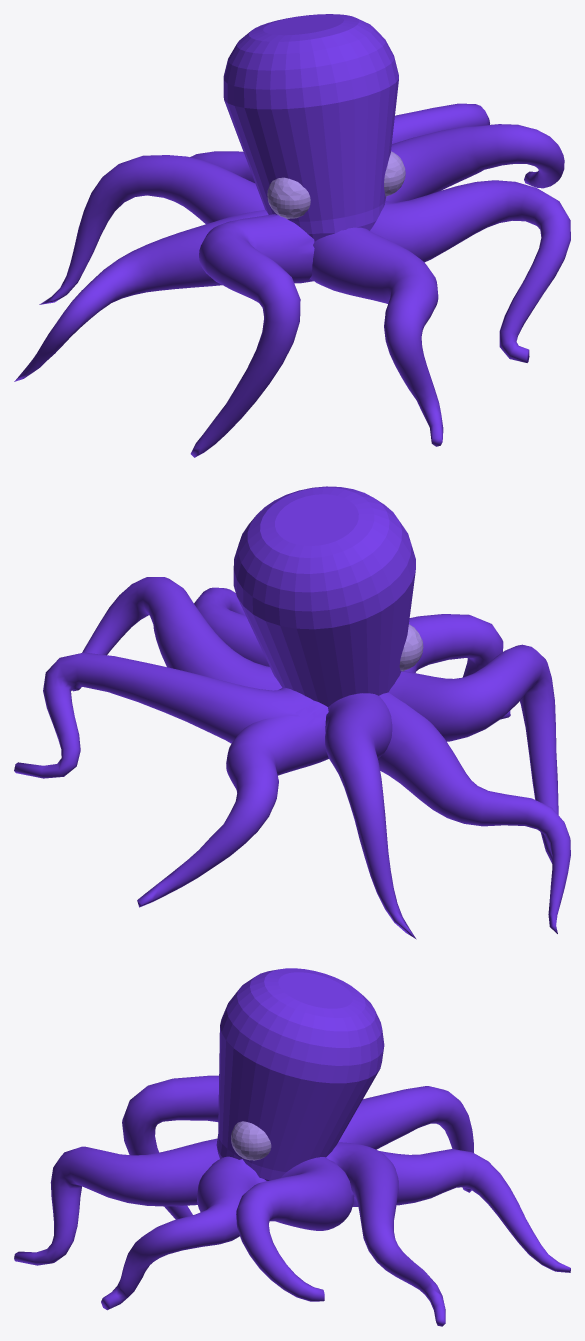
Rendered from pulpo.fbx.
3 renders of one model, top to bottom at view 1: azimuth 30°, elevation 25°; view 2: azimuth 150°, elevation 25°; view 3: azimuth 270°, elevation 25°, orthographic. The views are drawn at different scales.
Parts seen in each view (by area): view 1: pulpo; view 2: pulpo; view 3: pulpo.
Part boxes in pixels (bbox=[...]): pulpo: bbox=[14, 14, 570, 457]; pulpo: bbox=[14, 486, 570, 939]; pulpo: bbox=[14, 968, 570, 1326].
Size of the model in its own units: 388 by 261 by 397.
